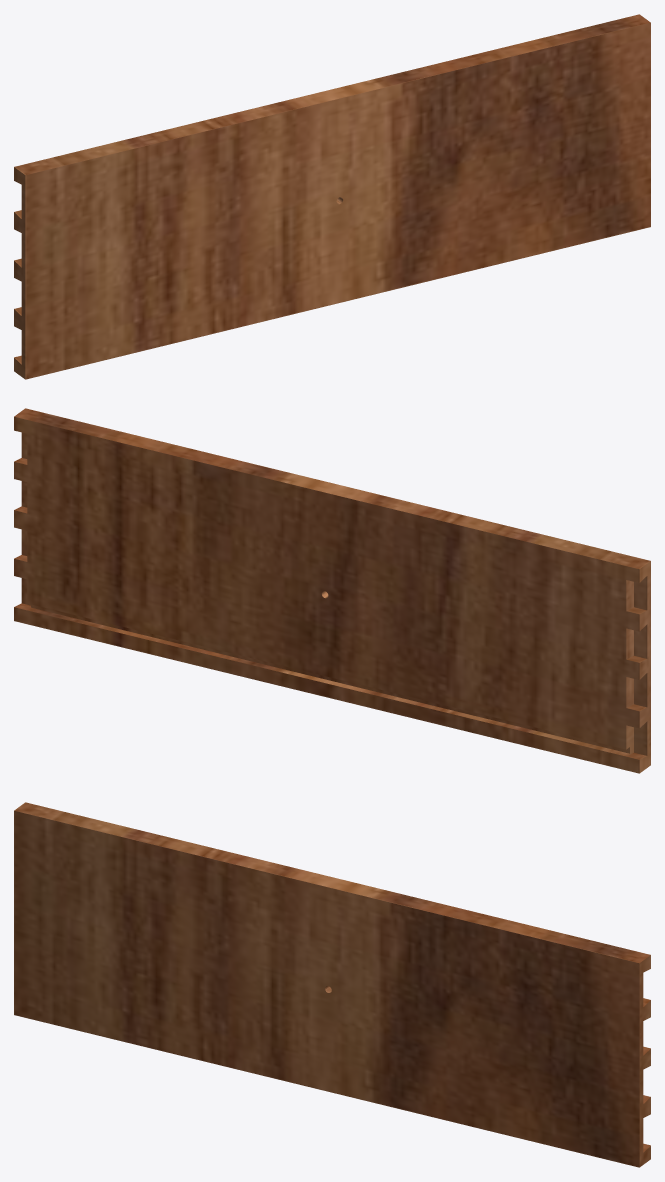
The model's file is original-1125.obj.
3 views of the same model, one above another, from view 1: azimuth 30°, elevation 25°; view 2: azimuth 150°, elevation 25°; view 3: azimuth 330°, elevation 25° (orthographic).
Parts seen in each view (by area): view 1: draw_frount1/draw_frount/mesh311/mesh311-geometry#mesh311-geomet; view 2: draw_frount1/draw_frount/mesh311/mesh311-geometry#mesh311-geomet; view 3: draw_frount1/draw_frount/mesh311/mesh311-geometry#mesh311-geomet.
Boxes of the visible parts, x1,y1,x2,y2 form: draw_frount1/draw_frount/mesh311/mesh311-geometry#mesh311-geomet: (14, 14, 650, 379); draw_frount1/draw_frount/mesh311/mesh311-geometry#mesh311-geomet: (14, 408, 650, 773); draw_frount1/draw_frount/mesh311/mesh311-geometry#mesh311-geomet: (14, 802, 650, 1167).
Size of the model in its own units: 0.6722 by 0.2098 by 0.0213.
